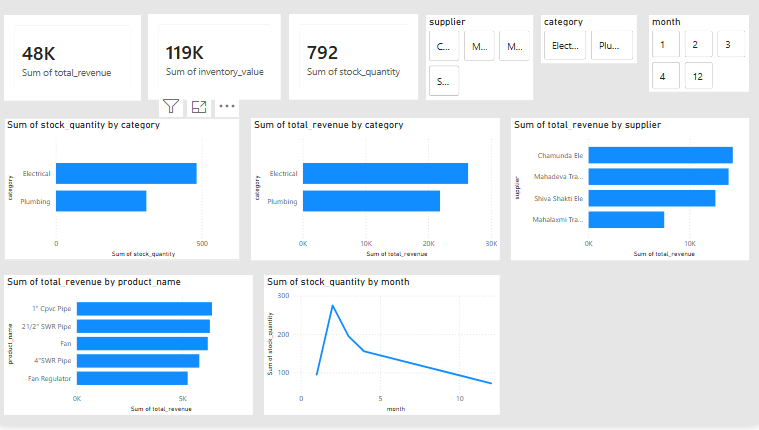

Layout of this report page (visuals, bound fields, positions):
{"tool":"powerbi","page":{"name":"Page 1","canvas":[1280,720],"ordinal":0},"visuals":[{"type":"cardVisual","fields":{"Data":["Sum(Inventory_sales.total_revenue)"]},"box":[10.1,31.9,230.1,144.5],"z":0},{"type":"cardVisual","fields":{"Data":["Sum(Inventory_sales.stock_quantity)"]},"box":[488.8,30.2,216.7,144.5],"z":1},{"type":"cardVisual","fields":{"Data":["Sum(Inventory_sales.inventory_value)"]},"box":[252,30.2,223.4,144.5],"z":2},{"type":"barChart","fields":{"Category":["Inventory_sales.category"],"Y":["Sum(Inventory_sales.total_revenue)"]},"box":[425,204.9,418.3,238.5],"z":3},{"type":"barChart","fields":{"Category":["Inventory_sales.category"],"Y":["Sum(Inventory_sales.stock_quantity)"]},"box":[10.1,204.9,396.4,238.5],"z":5},{"type":"barChart","fields":{"Category":["Inventory_sales.product_name"],"Y":["Sum(Inventory_sales.total_revenue)"]},"box":[10.1,468.7,418.3,235.2],"z":6},{"type":"lineChart","fields":{"Category":["Inventory_sales.month"],"Y":["Sum(Inventory_sales.stock_quantity)"]},"box":[446.8,468.7,396.4,235.2],"z":7},{"type":"advancedSlicerVisual","fields":{"Values":["Inventory_sales.supplier"]},"box":[719,31.9,179.7,142.8],"z":8},{"type":"advancedSlicerVisual","fields":{"Values":["Inventory_sales.category"]},"box":[912.1,31.9,161.3,80.6],"z":9},{"type":"advancedSlicerVisual","fields":{"Values":["Inventory_sales.month"]},"box":[1093.5,31.9,168,129.3],"z":10},{"type":"barChart","fields":{"Category":["Inventory_sales.supplier"],"Y":["Sum(Inventory_sales.total_revenue)"]},"box":[861.7,204.9,399.8,238.5],"z":11}]}

Visuals, with their boxes in screenshot pixels (x1, y1, x2, y2), scaled from the page's 1280x720 canvas onto the 759x430 screenshot:
cardVisual - Sum(Inventory_sales.total_revenue): <bbox>6, 19, 142, 105</bbox>
cardVisual - Sum(Inventory_sales.stock_quantity): <bbox>290, 18, 418, 104</bbox>
cardVisual - Sum(Inventory_sales.inventory_value): <bbox>149, 18, 282, 104</bbox>
barChart - Inventory_sales.category x Sum(Inventory_sales.total_revenue): <bbox>252, 122, 500, 265</bbox>
barChart - Inventory_sales.category x Sum(Inventory_sales.stock_quantity): <bbox>6, 122, 241, 265</bbox>
barChart - Inventory_sales.product_name x Sum(Inventory_sales.total_revenue): <bbox>6, 280, 254, 420</bbox>
lineChart - Inventory_sales.month x Sum(Inventory_sales.stock_quantity): <bbox>265, 280, 500, 420</bbox>
advancedSlicerVisual - Inventory_sales.supplier: <bbox>426, 19, 533, 104</bbox>
advancedSlicerVisual - Inventory_sales.category: <bbox>541, 19, 636, 67</bbox>
advancedSlicerVisual - Inventory_sales.month: <bbox>648, 19, 748, 96</bbox>
barChart - Inventory_sales.supplier x Sum(Inventory_sales.total_revenue): <bbox>511, 122, 748, 265</bbox>
